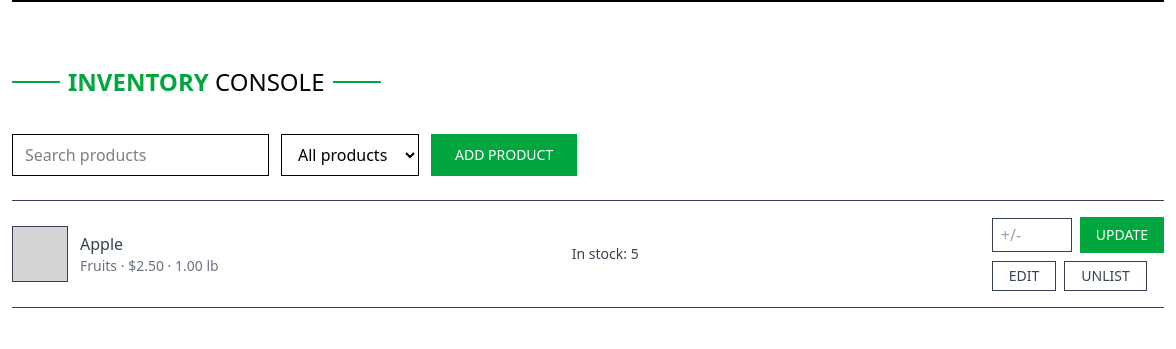
Test: Inventory › asks for a number when the box is empty
Expected: the text "Apple" is shown, [80,233,123,255]
What coordinates should you click on to do the following:
click the button "UPDATE"
I would click on:
 (1122, 235)
Its box is [1080,217,1164,253].
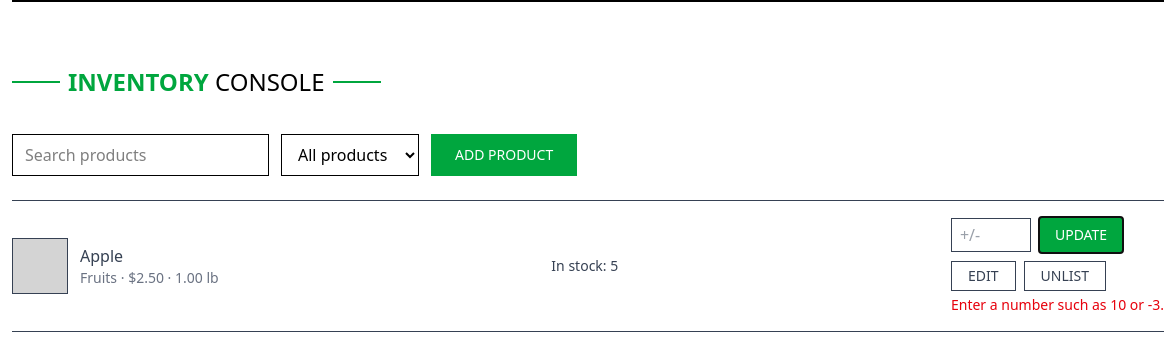
Now the text "Enter a number such as 10 or -3." is shown, box [951,295,1164,315]
